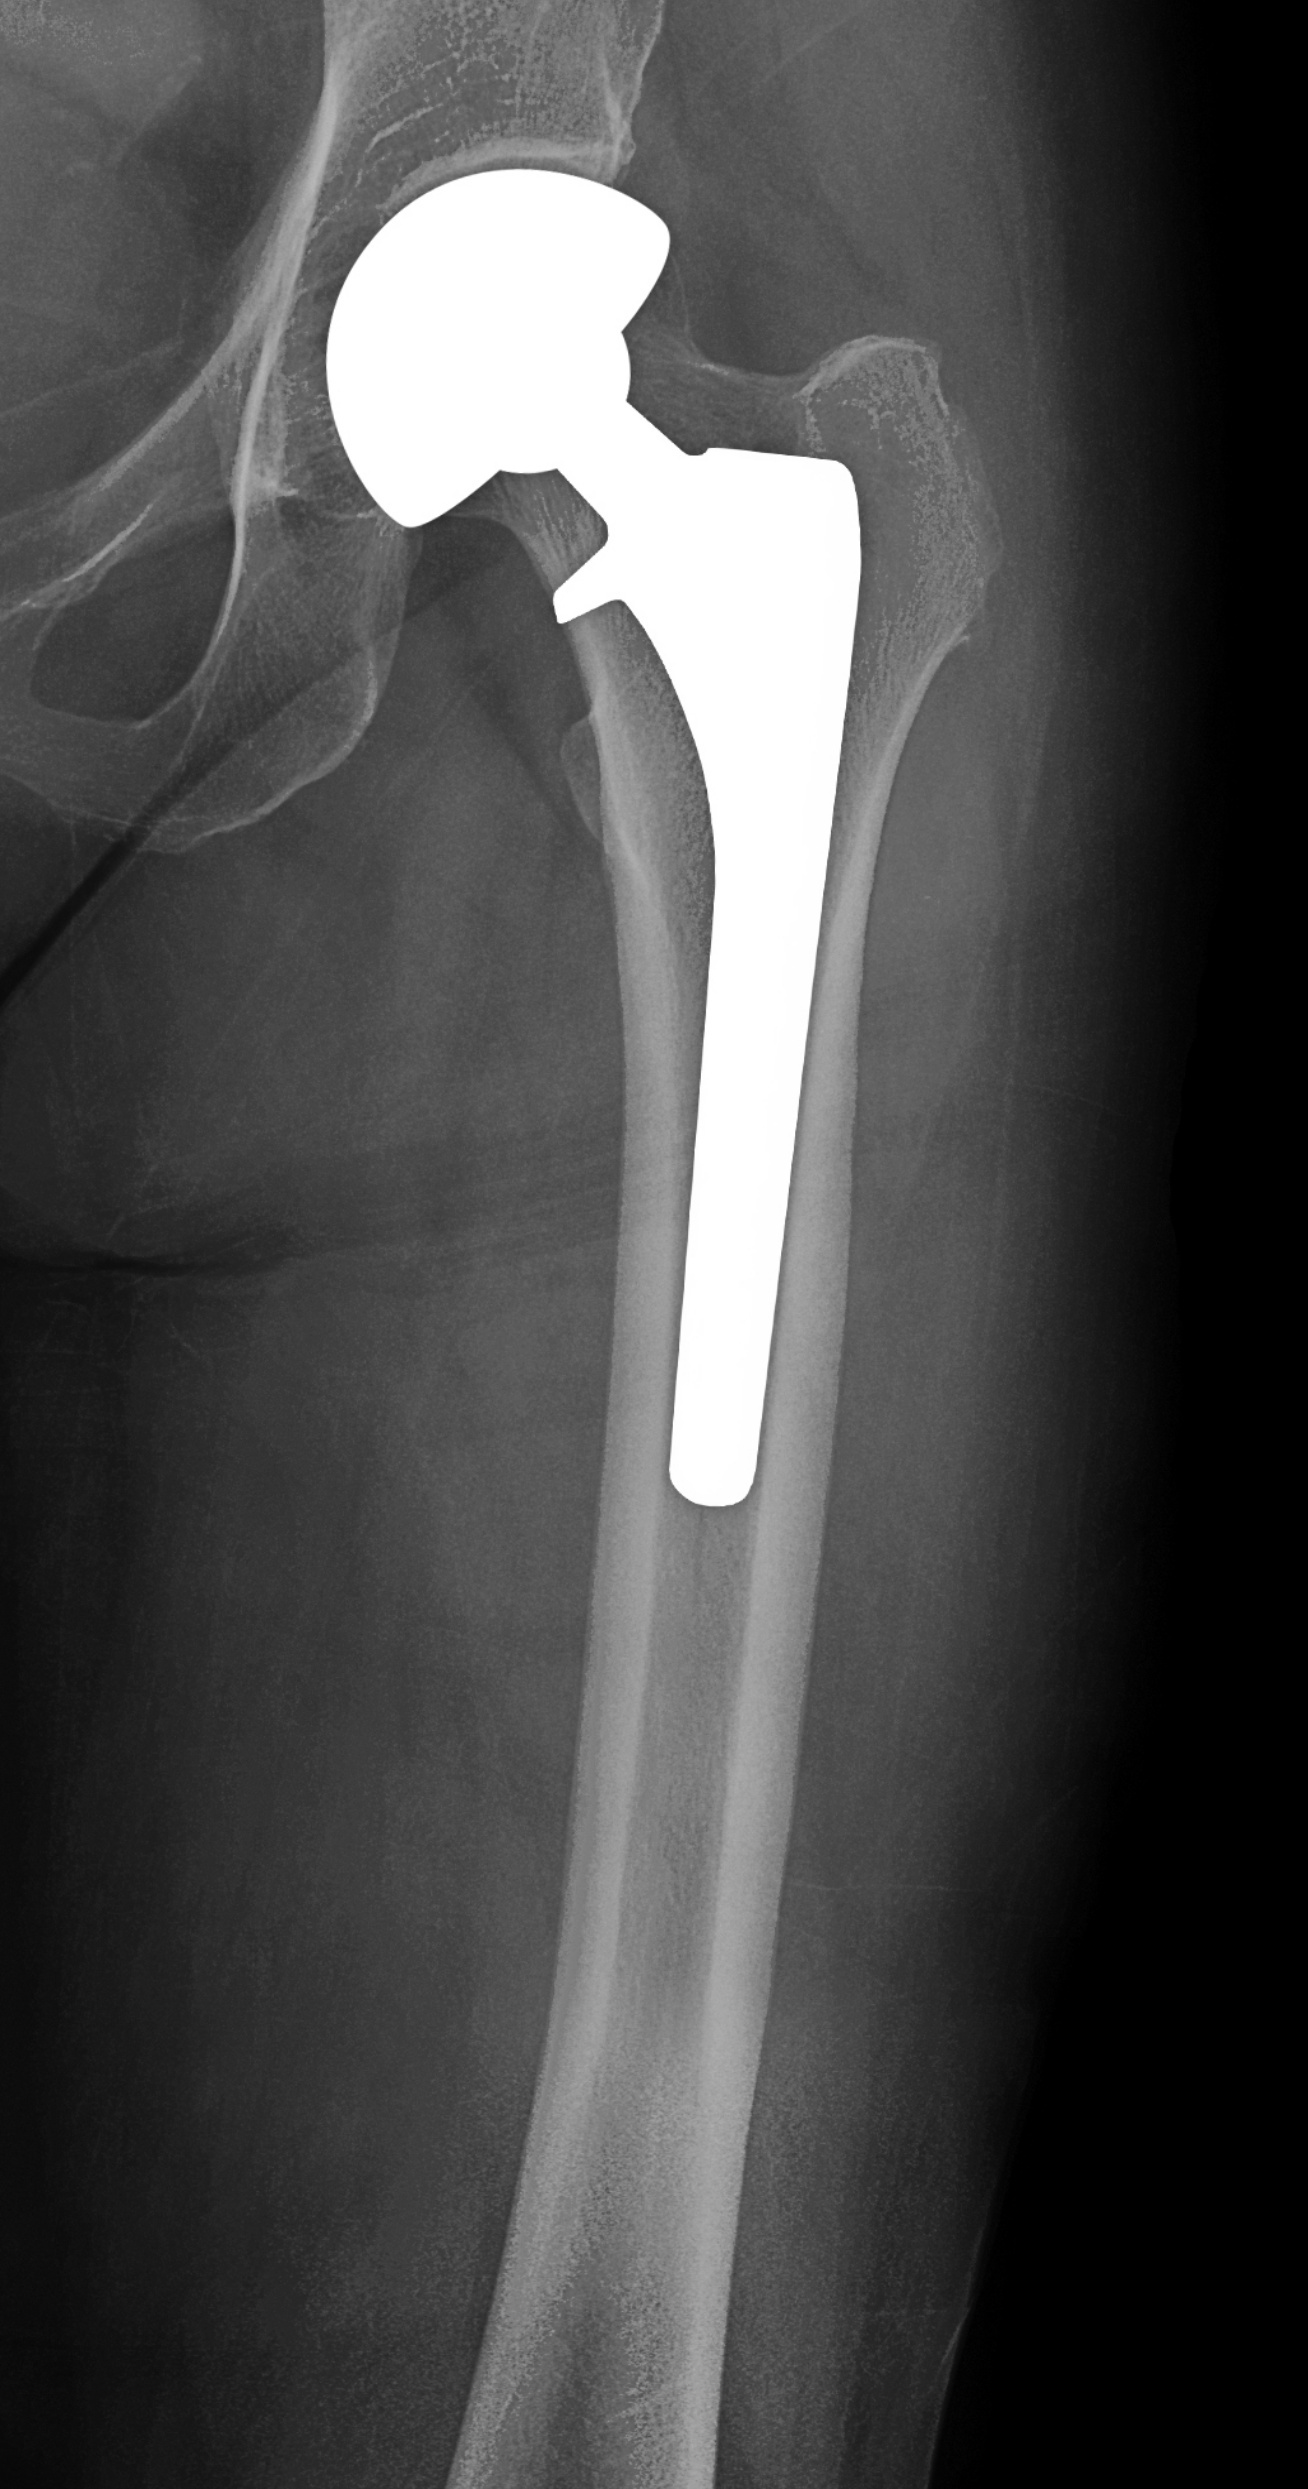Hip - APR - Zimmer: (253, 72, 1010, 1633)
